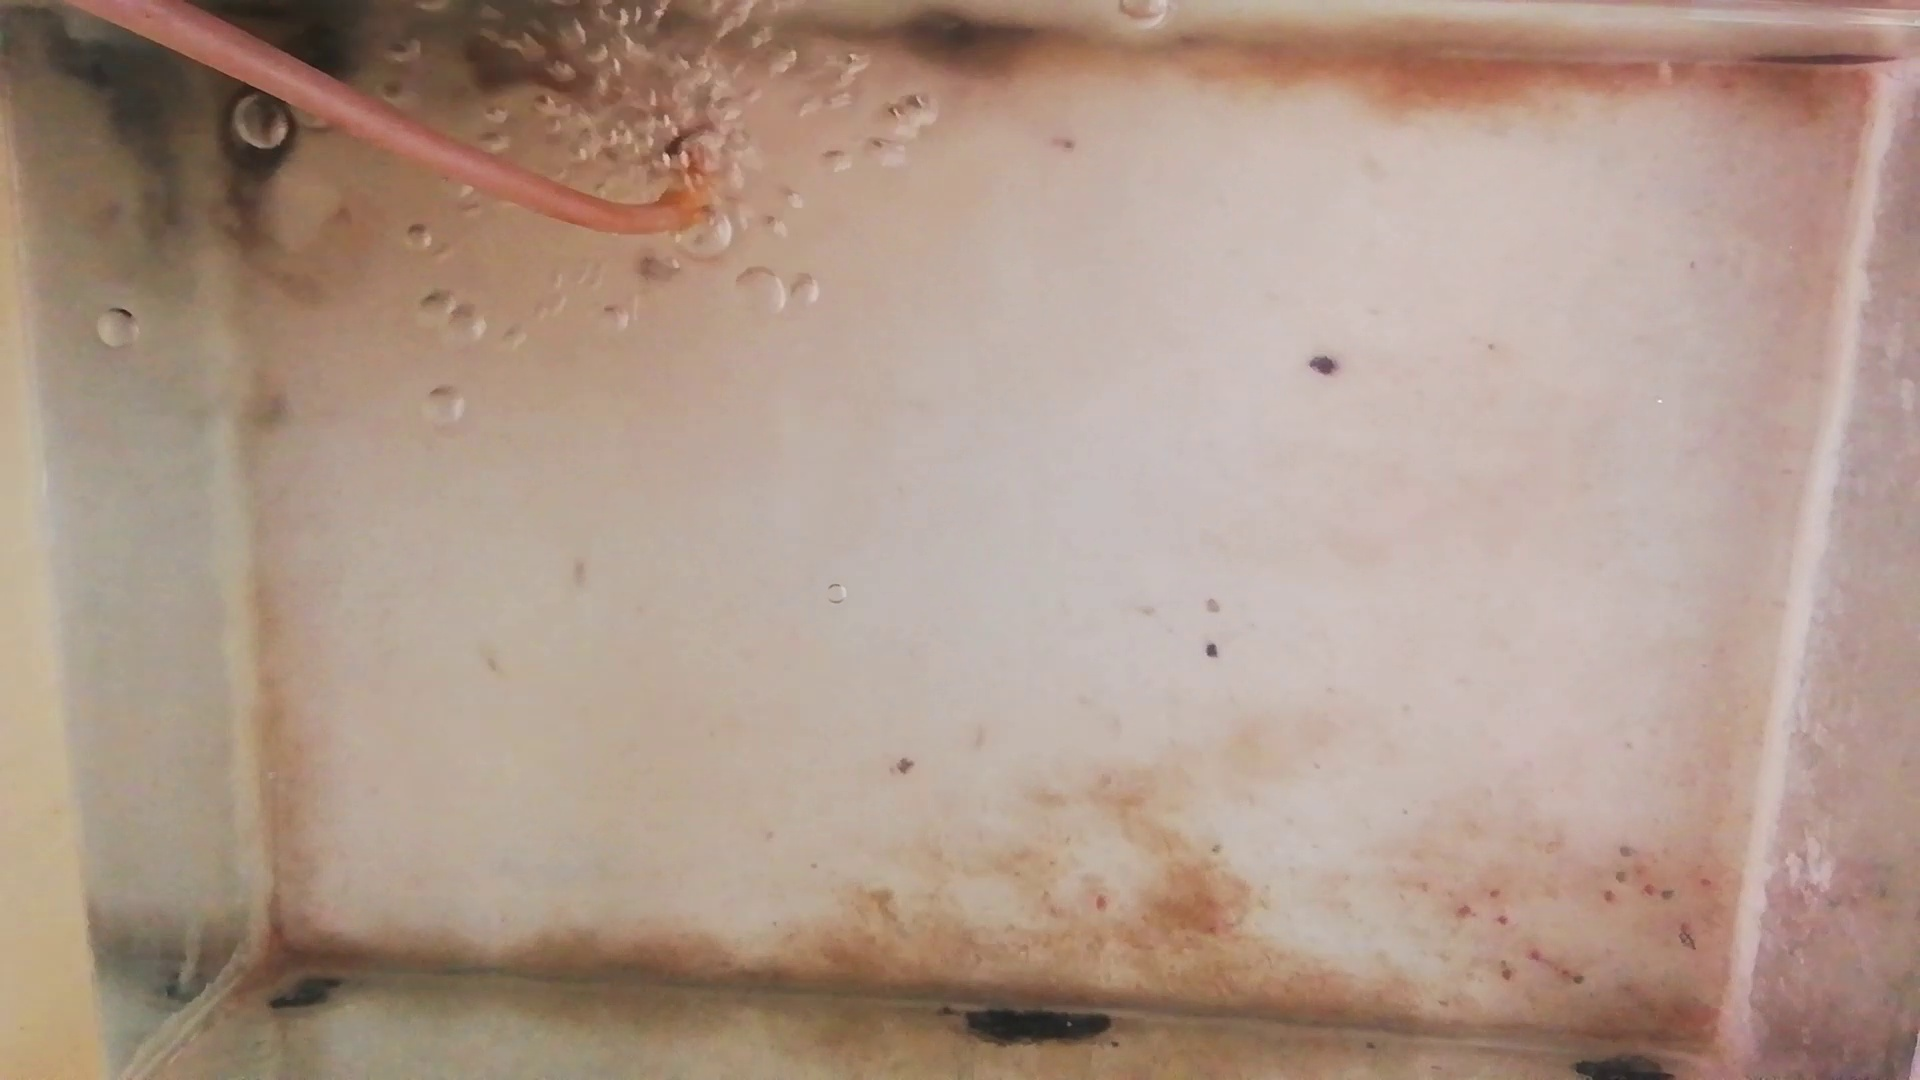fish: (224, 45, 353, 253), (454, 36, 601, 104)
